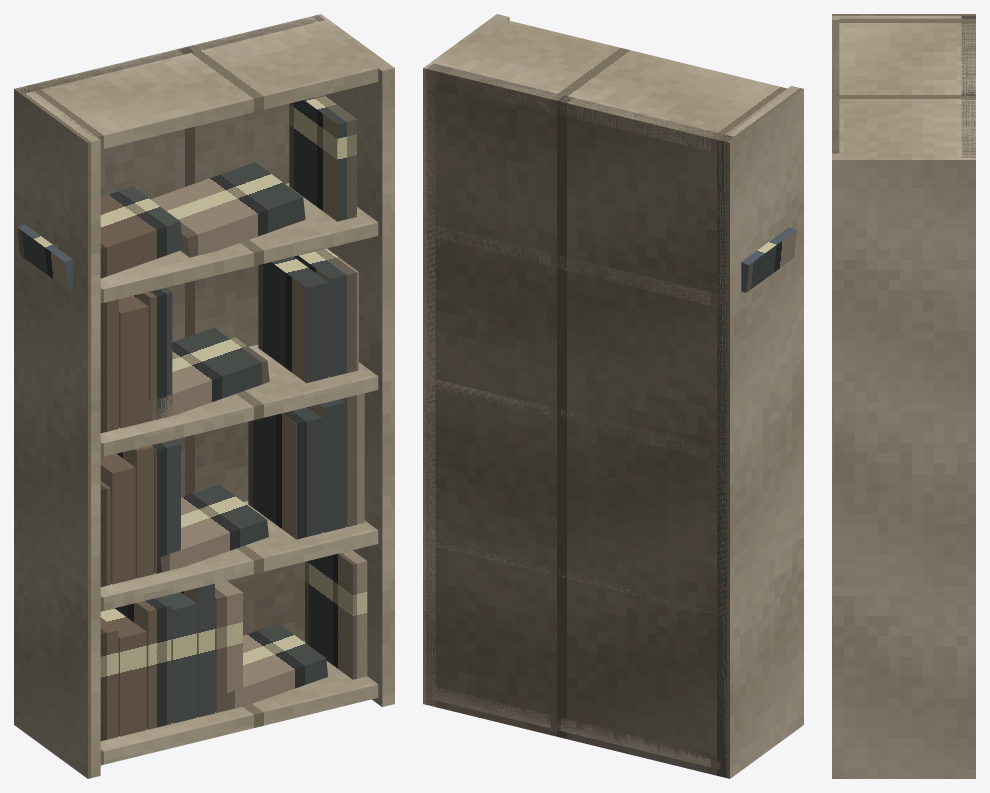
Rendered from bookshelf_e.obj.
3 renders of one model, left to right at view 1: azimuth 30°, elevation 25°; view 2: azimuth 150°, elevation 25°; view 3: azimuth 270°, elevation 25°, orthographic. The views are drawn at different scales.
Visible parts, largest first — view 1: bookshelf_e; view 2: bookshelf_e; view 3: bookshelf_e.
Part boxes in pixels (<box>): bookshelf_e: <box>14,14,394,778</box>; bookshelf_e: <box>423,14,803,778</box>; bookshelf_e: <box>832,14,975,778</box>.
Bounding box in the file's own units: 0.9848 × 1.9 × 0.4.
